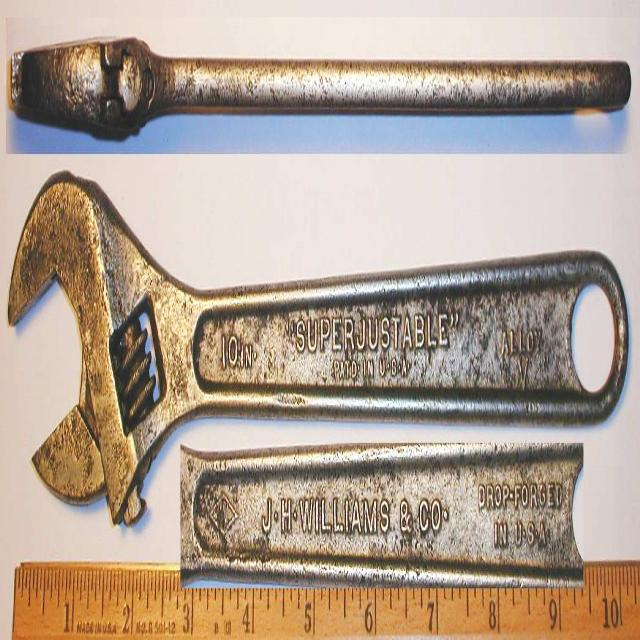wrench: (1, 165, 632, 530), (3, 22, 634, 156)
